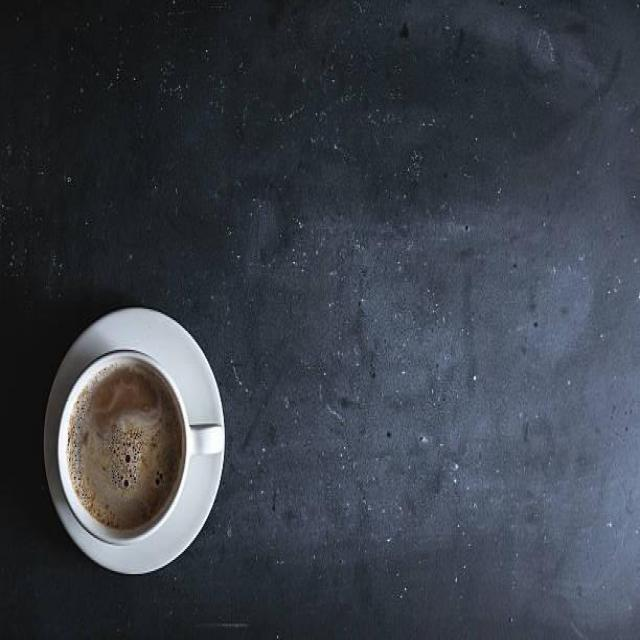cup-handle: (50, 345, 224, 548)
